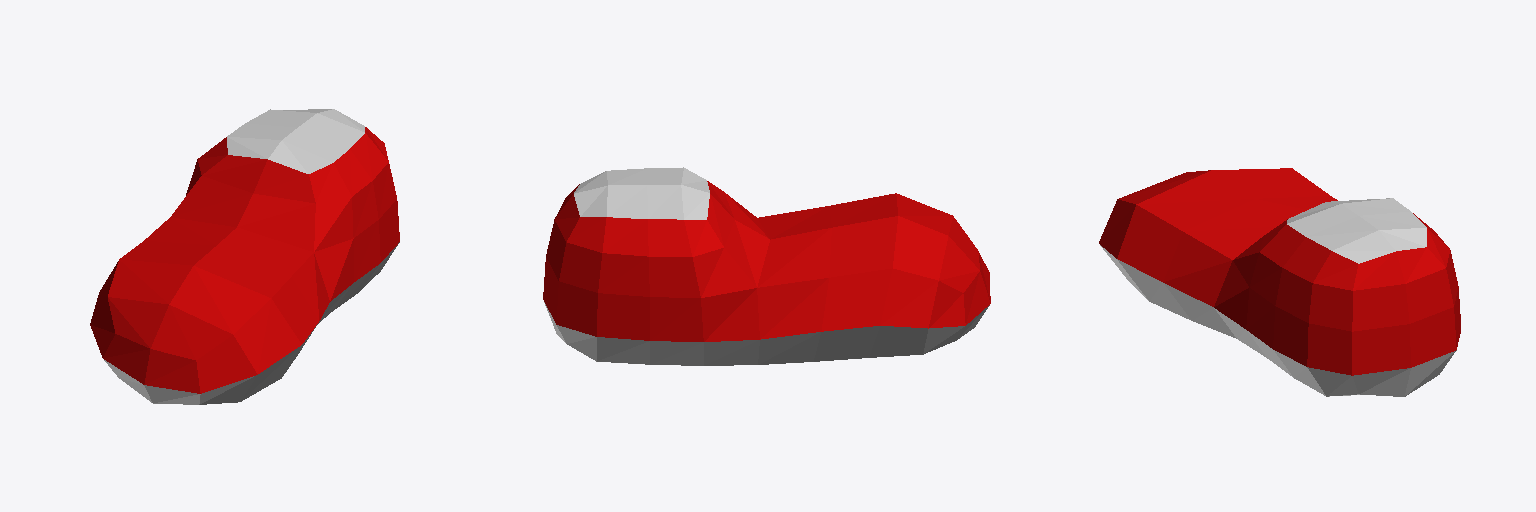
Rendered from player_l_foot.obj.
The picture shows the model from 3 angles: view 1: azimuth 30°, elevation 25°; view 2: azimuth 150°, elevation 25°; view 3: azimuth 270°, elevation 25°; orthographic projection.
Visible parts, largest first — view 1: Object006, Box005; view 2: Object006, Box005; view 3: Object006, Box005.
Part boxes in pixels (x1,y1,x2,y2): Object006: (90,127,399,393); Box005: (104,109,399,404); Object006: (543,181,990,341); Box005: (544,167,989,365); Object006: (1099,168,1460,375); Box005: (1100,198,1456,396).
Bounding box in the file's own units: 10.22 × 4.44 × 9.15.